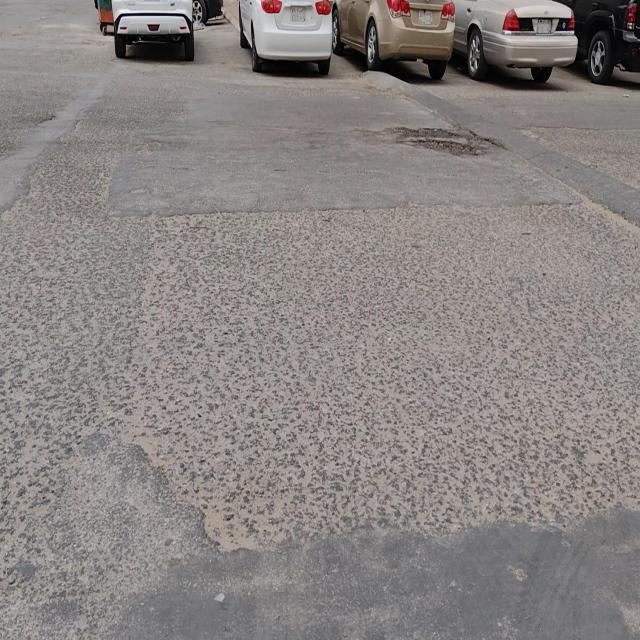Potholes: (393, 124, 492, 160)
